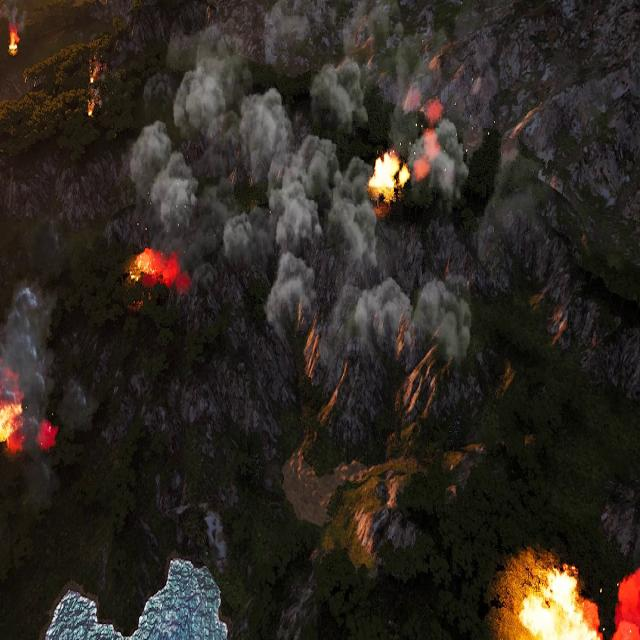fire: (518, 564, 604, 638), (131, 247, 180, 296), (369, 153, 408, 196), (0, 392, 23, 448), (8, 27, 19, 55), (86, 99, 98, 119), (89, 63, 99, 84)
smoke: (128, 23, 476, 366), (0, 287, 98, 513), (611, 494, 640, 638), (1, 0, 23, 27)
